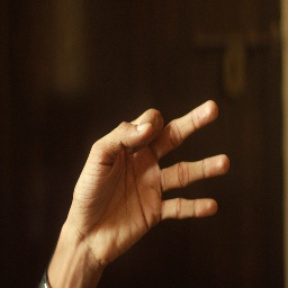K: (67, 98, 234, 255)
